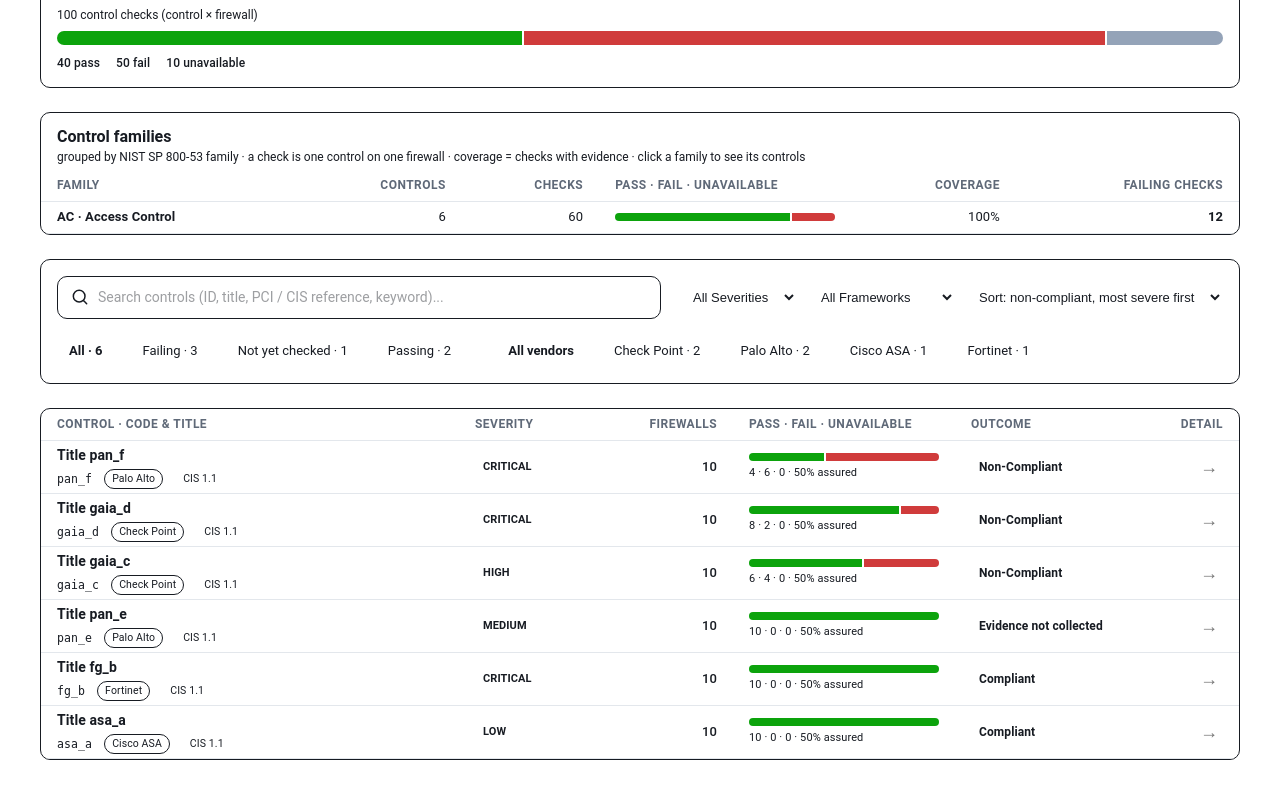
Compliance triage (UI review 2026-10-18, F-14) › opens the control drawer 560 px wide, with the vendor by name and the outcome in words
(page scrolled)
What coordinates should you click on to do the following:
click the text "Title gaia_d"
I would click on:
 (94, 508)
Its box is [57,500,131,516].
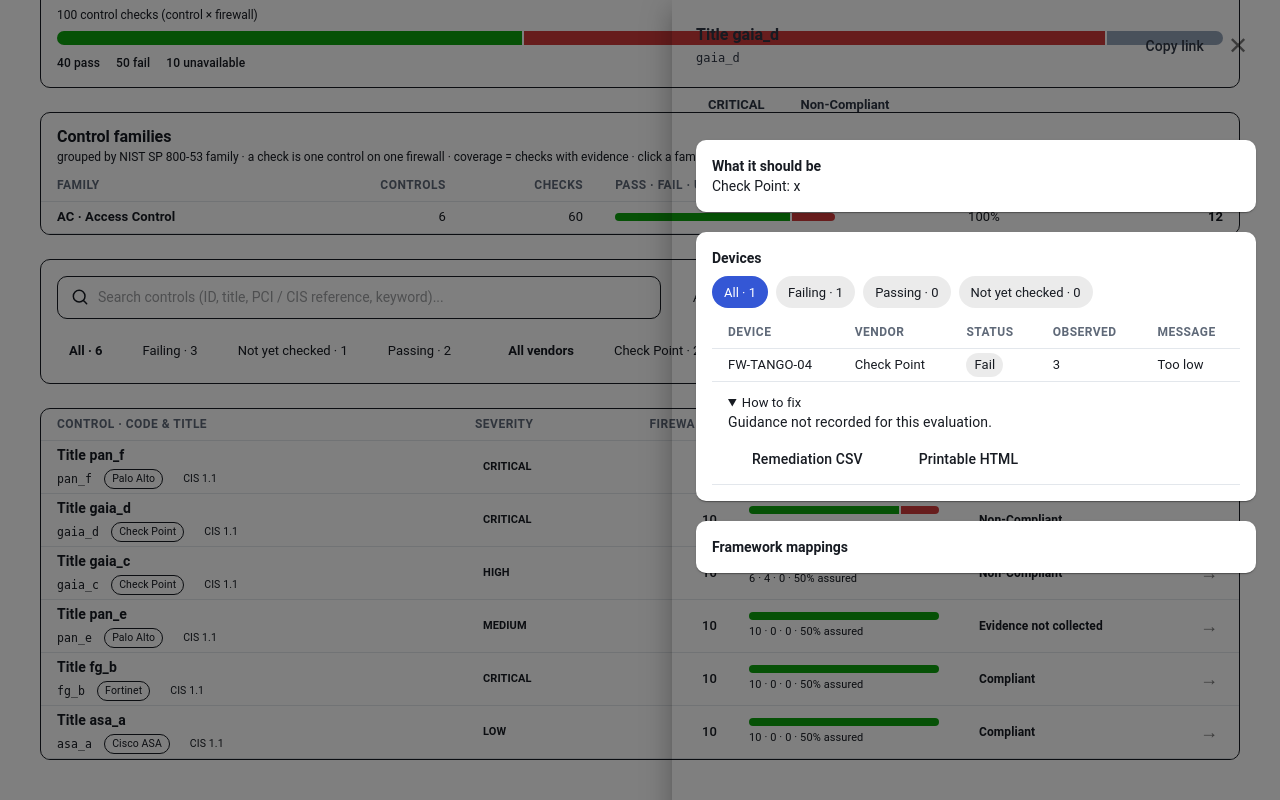
Expected: the text "Too low" is shown, [1141,348,1240,381]
Expected: the text "Check Point" is shown, [855,356,925,372]
Expected: the text "Non-Compliant" is shown, [801,96,889,112]
